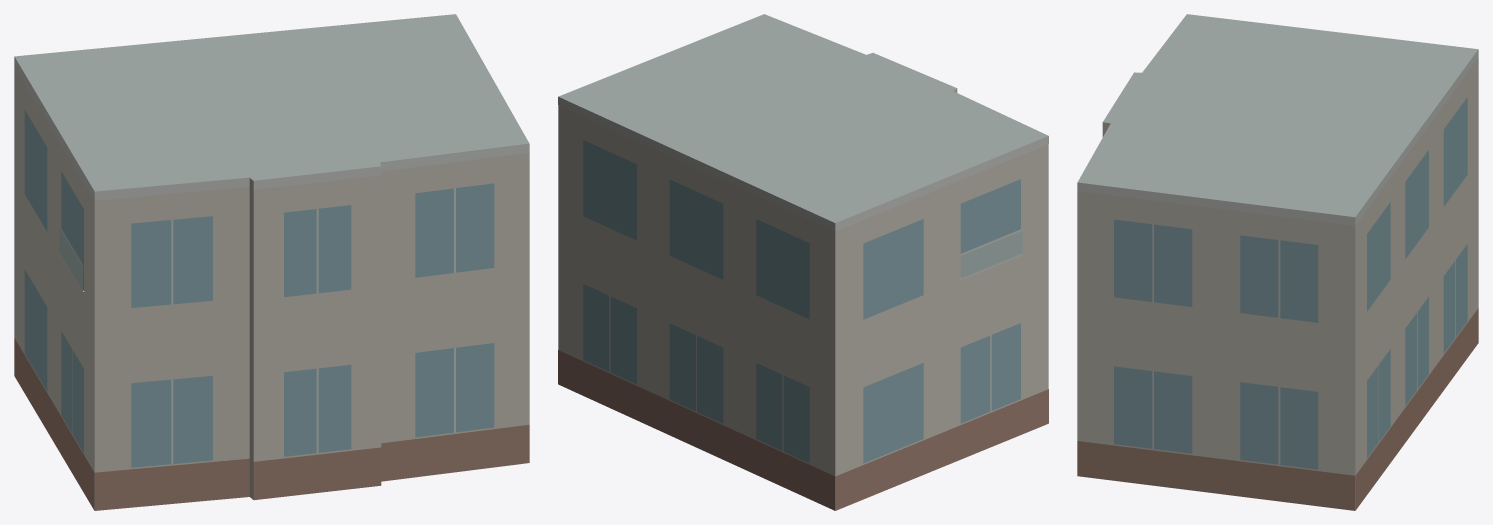
The model's file is survey-upis-32605625.glb.
3 renders of one model, left to right at view 1: azimuth 30°, elevation 25°; view 2: azimuth 150°, elevation 25°; view 3: azimuth 270°, elevation 25°, orthographic. The views are drawn at different scales.
Visible parts, largest first — view 1: survey-upis-32605625.tmp; view 2: survey-upis-32605625.tmp; view 3: survey-upis-32605625.tmp.
Part boxes in pixels (x1,y1,x2,y2): survey-upis-32605625.tmp: (14,14,529,510); survey-upis-32605625.tmp: (558,14,1048,510); survey-upis-32605625.tmp: (1077,14,1478,510).
Bounding box in the file's own units: 12.63 × 8.5 × 10.54.
